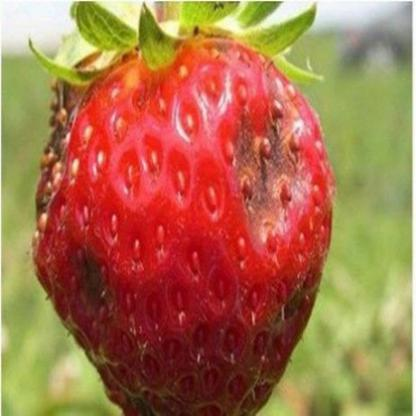Strawberry_Anthracnose_Fruit_Rot: (29, 38, 317, 330)
